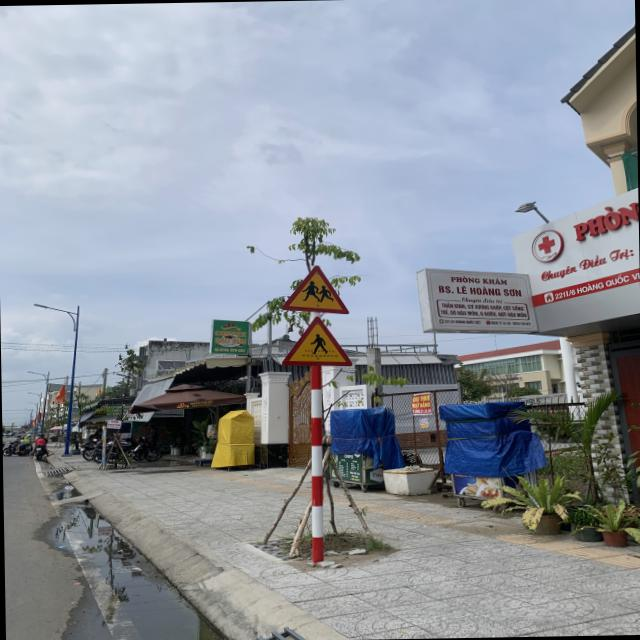Duong_Nguoi_Di_Bo_Sang_Ngang: (280, 314, 352, 368)
Vong_Xuyen: (280, 264, 350, 316)
